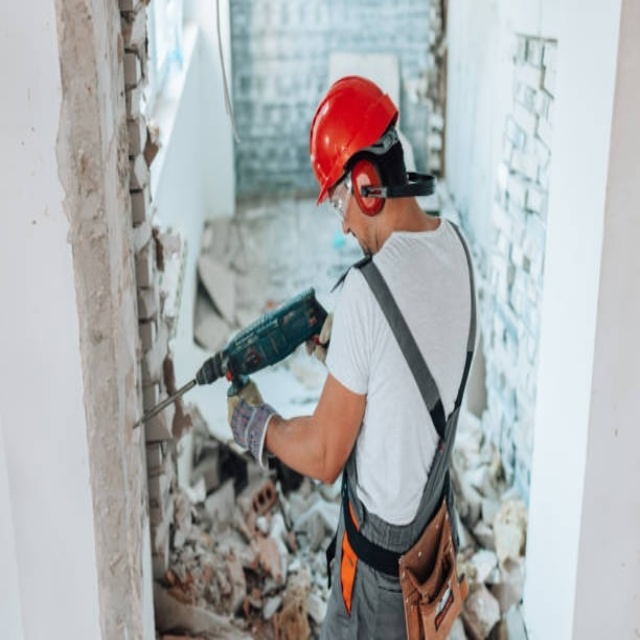Gafas: (327, 171, 353, 226)
Guantes: (227, 373, 269, 445), (305, 310, 333, 368)
Sin_mascara: (342, 221, 373, 256)
